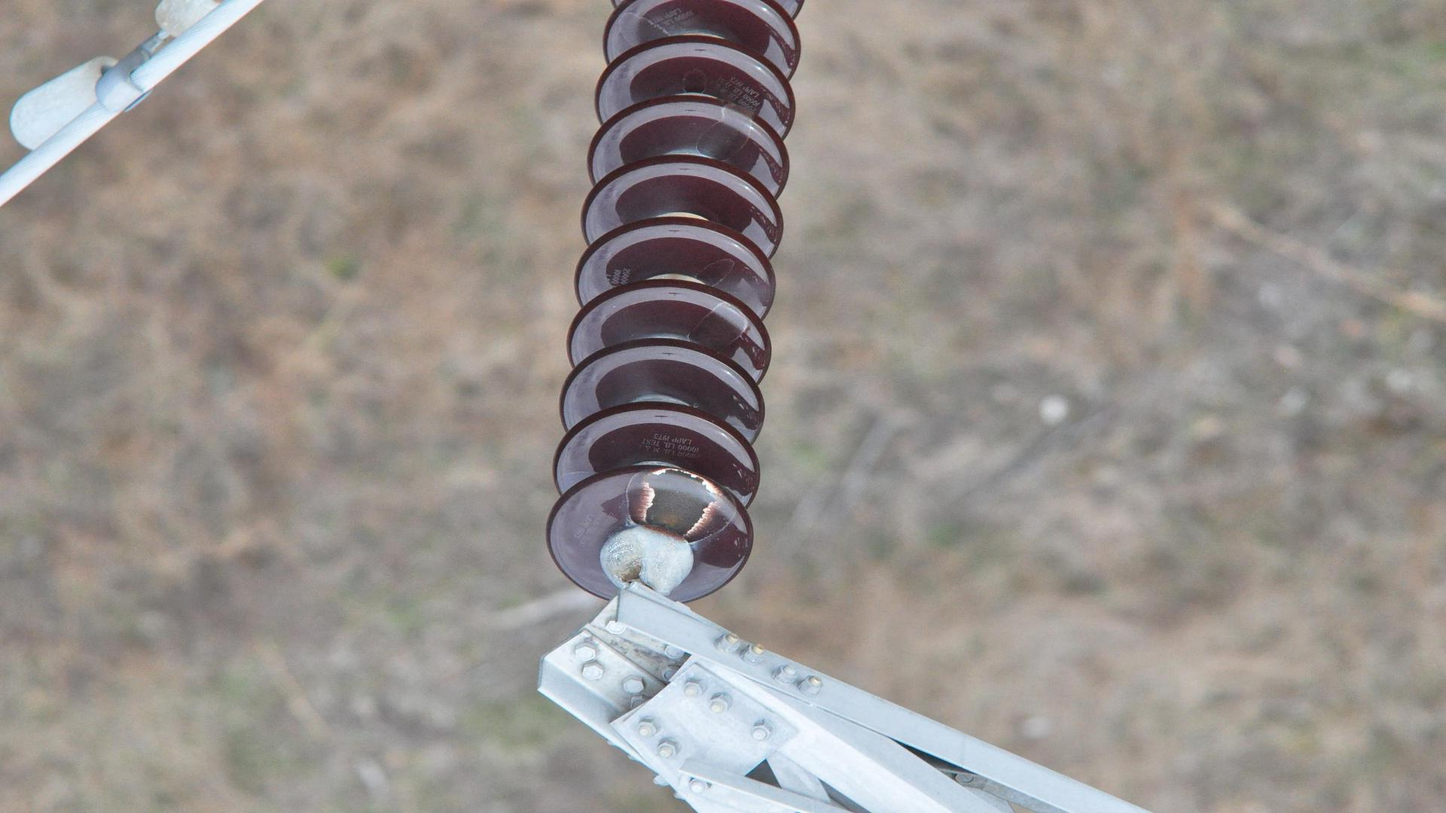insulator: (540, 1, 809, 604)
insulator_flashover: (640, 464, 718, 537)
